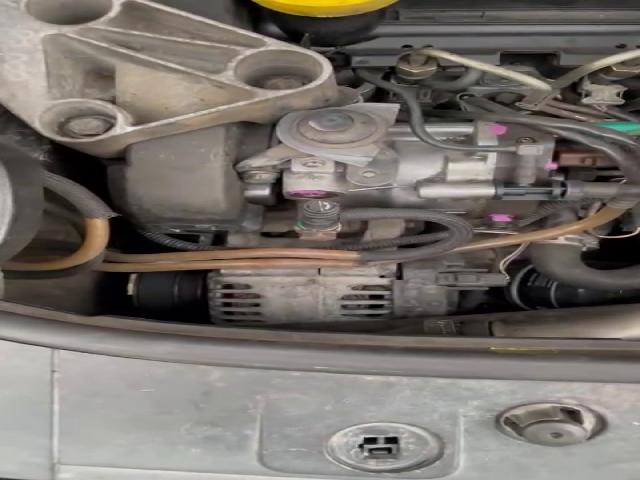alternator: (208, 264, 394, 325)
high_pressure_pump: (238, 103, 568, 227)
